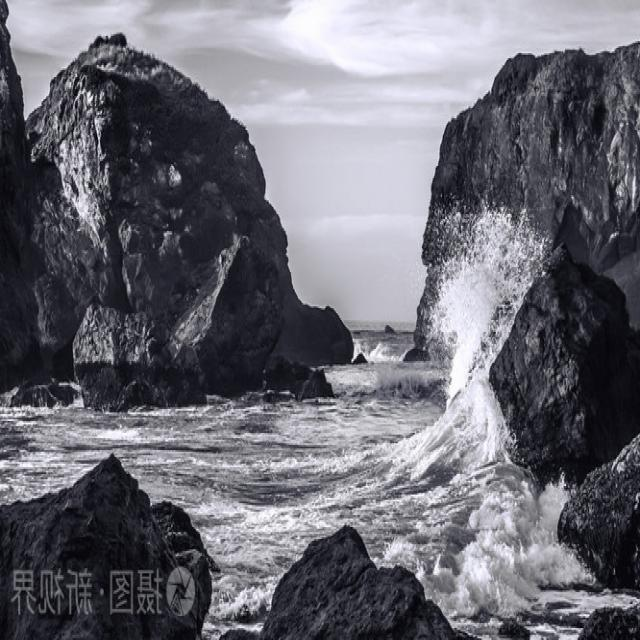reef: (260, 300, 359, 396)
